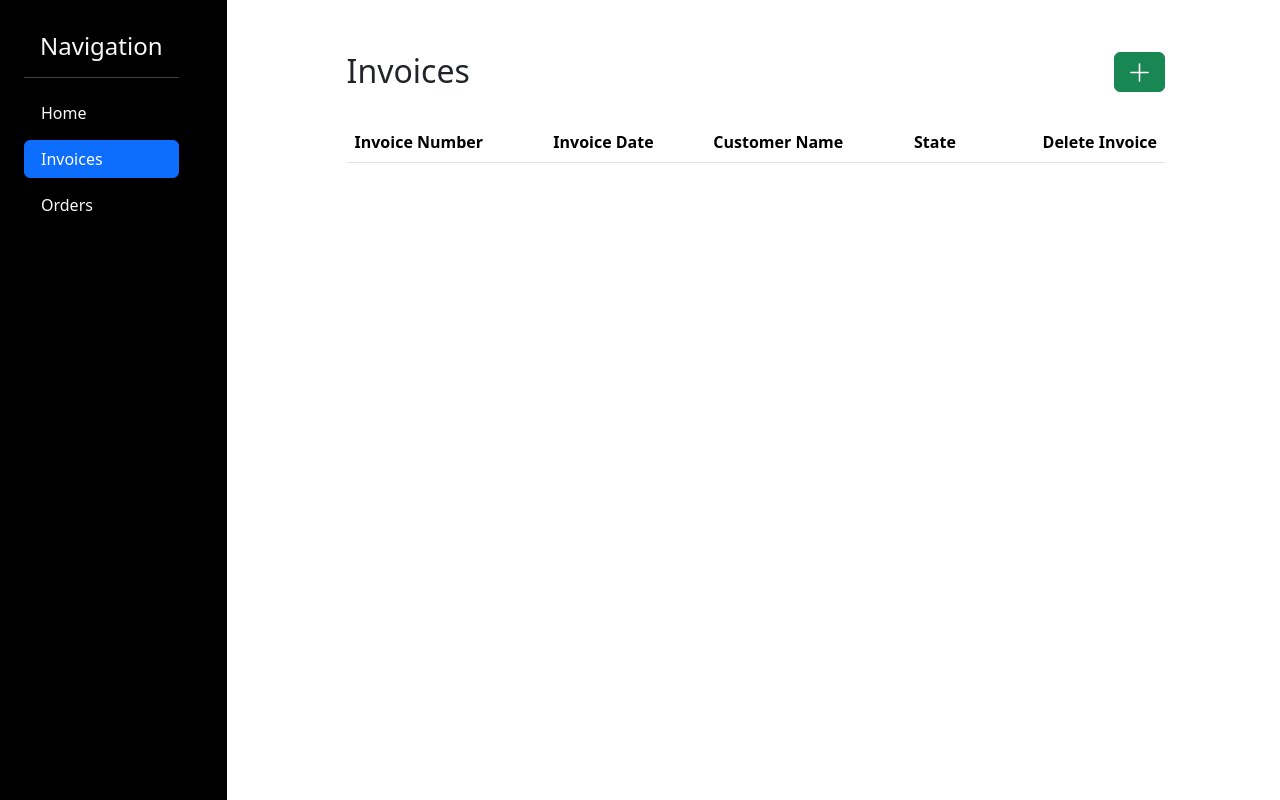
Test: navigate around the application › navigate from invoices page to orders page via add button
The width and height of the screenshot is (1280, 800).
Expected: the element with id "invoices" is shown, left=347, top=48, right=1257, bottom=163
Click the button with id "btn-add" at (1140, 72), box left=1114, top=52, right=1165, bottom=92
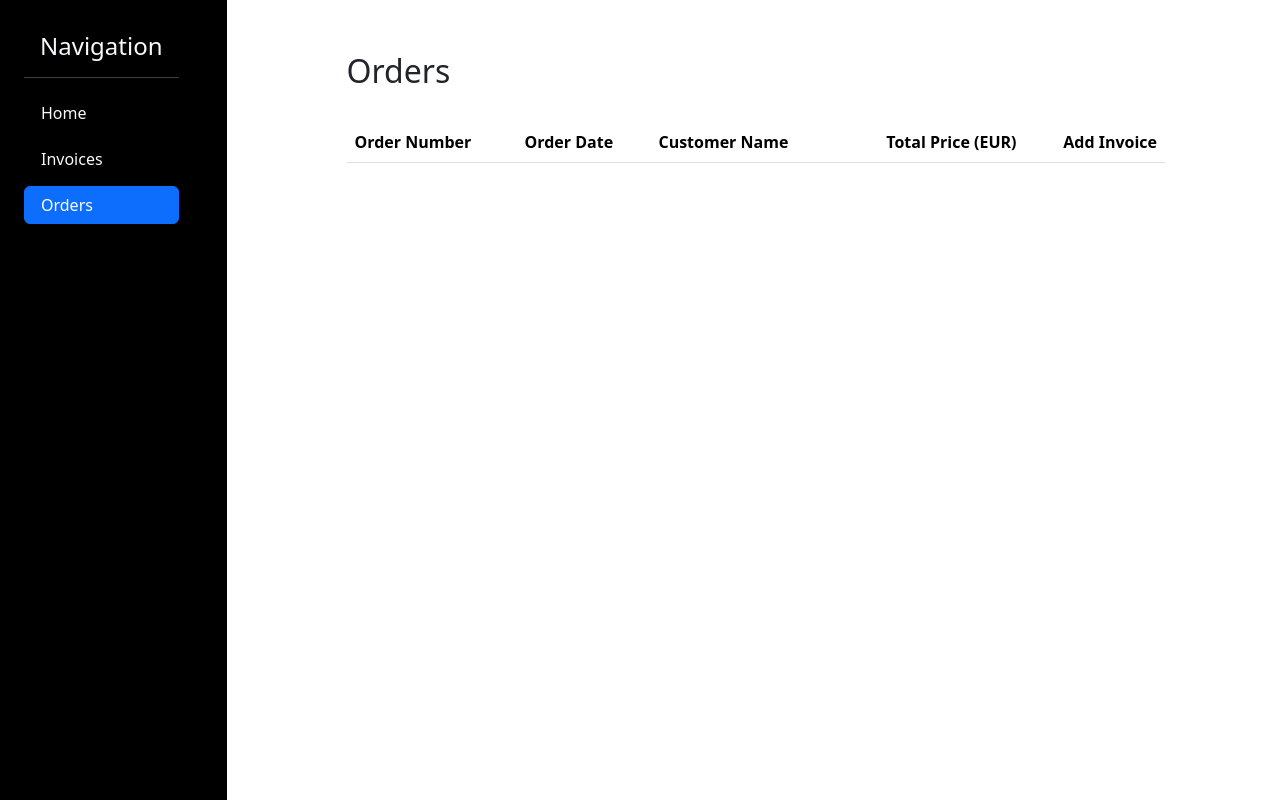
Expected: the element with id "orders" is shown, left=347, top=48, right=1257, bottom=163
